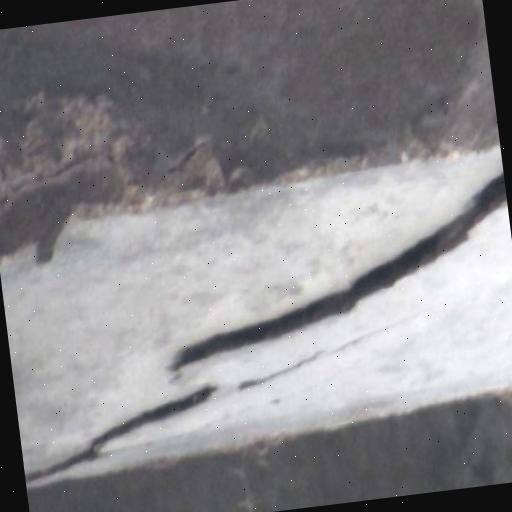spalling: (25, 168, 505, 492)
